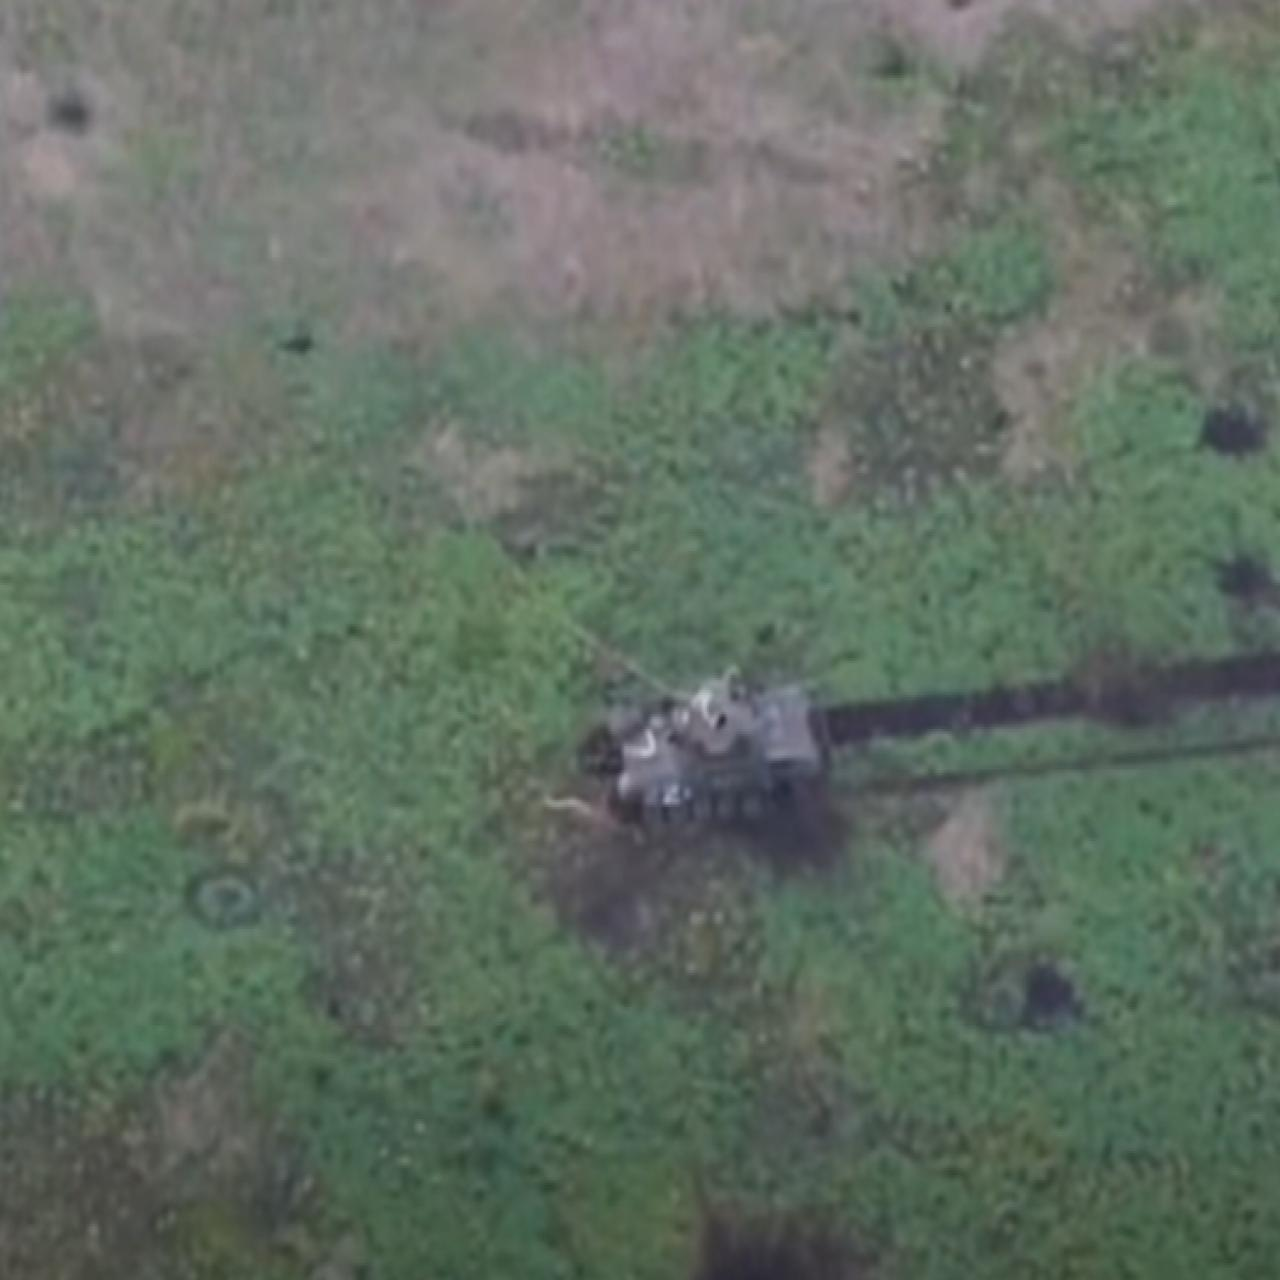MIL_Veh: (551, 602, 829, 824)
